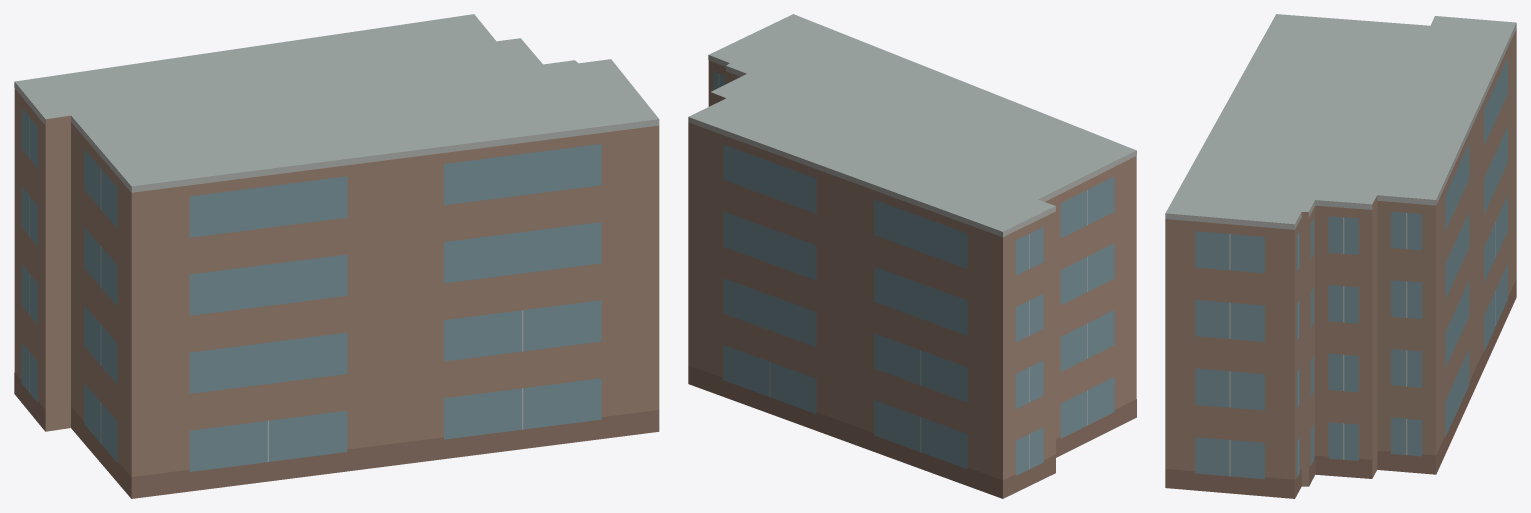
The model's file is survey-upis-33024155.glb.
3 renders of one model, left to right at view 1: azimuth 30°, elevation 25°; view 2: azimuth 150°, elevation 25°; view 3: azimuth 270°, elevation 25°, orthographic. The views are drawn at different scales.
Visible parts, largest first — view 1: survey-upis-33024155.tmp; view 2: survey-upis-33024155.tmp; view 3: survey-upis-33024155.tmp.
Boxes of the visible parts, left/top/right/bottom form: survey-upis-33024155.tmp: left=14, top=14, right=659, bottom=498; survey-upis-33024155.tmp: left=688, top=14, right=1136, bottom=498; survey-upis-33024155.tmp: left=1165, top=14, right=1516, bottom=498.
Bounding box in the file's own units: 19.78 × 12.04 × 13.97.
